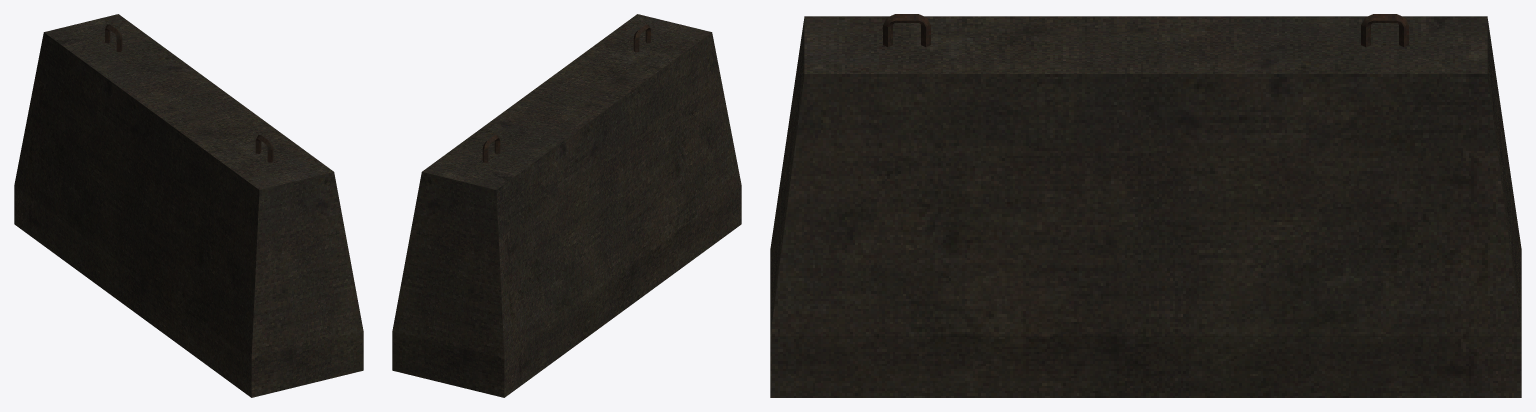
The model's file is concrete_block_mx_1.glb.
3 views of the same model, side by side, from view 1: azimuth 30°, elevation 25°; view 2: azimuth 150°, elevation 25°; view 3: azimuth 270°, elevation 25° (orthographic). The views are drawn at different scales.
Parts seen in each view (by area): view 1: concrete_block_mx_1; view 2: concrete_block_mx_1; view 3: concrete_block_mx_1.
Part boxes in pixels (x1,y1,x2,y2): concrete_block_mx_1: (14, 14, 363, 397); concrete_block_mx_1: (392, 14, 741, 397); concrete_block_mx_1: (770, 14, 1521, 397).
Size of the model in its own units: 0.6 by 1.1 by 2.2.
2 materials, 2 textured.
